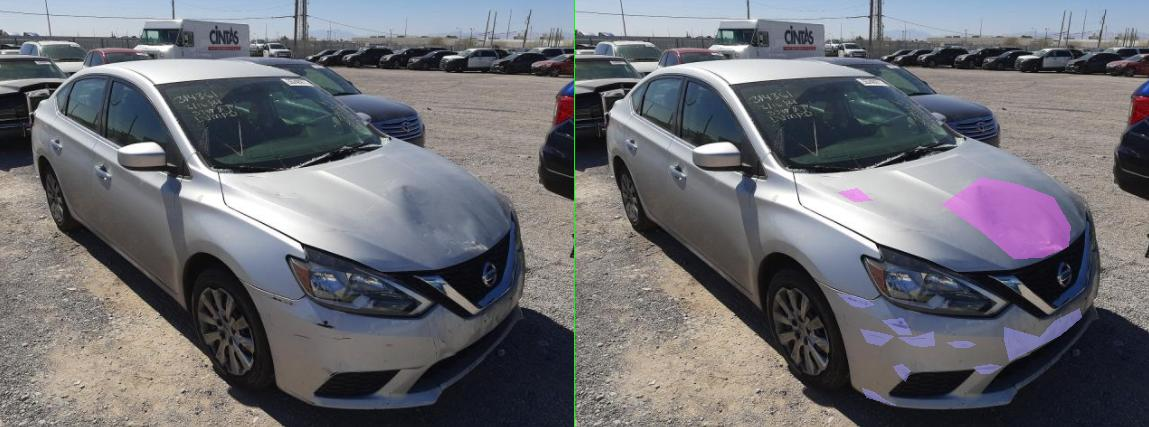Dent: (735, 177, 991, 258), (526, 188, 595, 201)
Scratch: (859, 308, 1013, 360), (574, 388, 641, 405), (647, 331, 719, 346), (570, 329, 637, 345), (524, 293, 599, 307), (615, 318, 673, 334), (637, 364, 671, 381), (797, 364, 853, 373), (745, 341, 801, 347)
